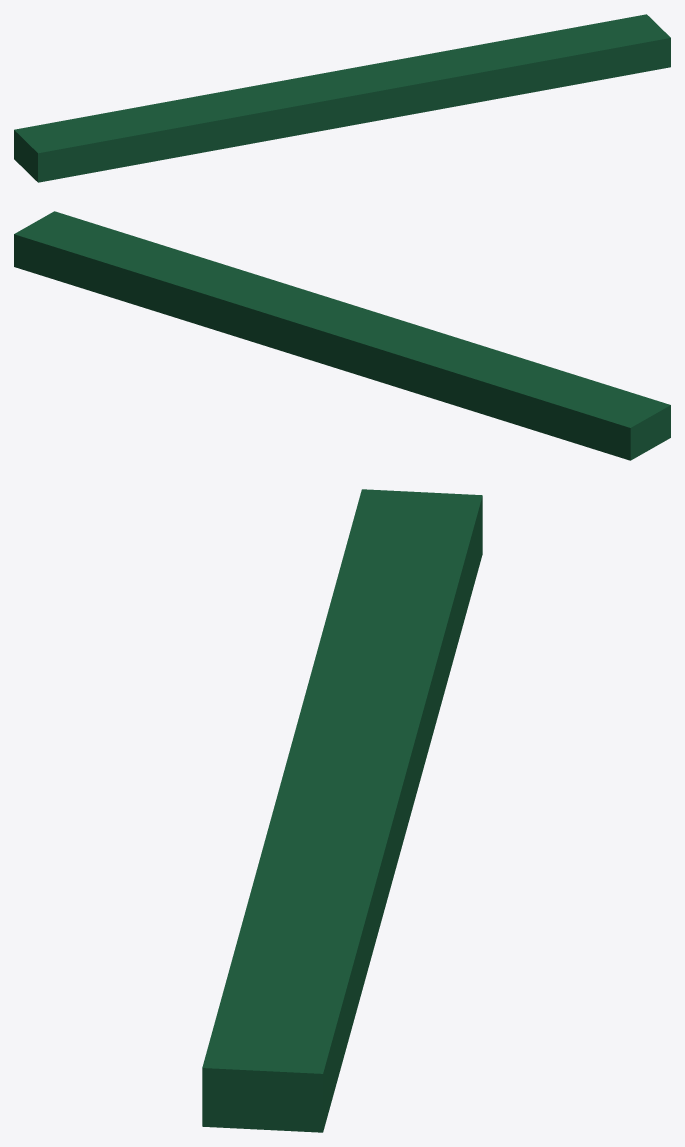
File: footbridge_00185_far.glb
3 views of the same model, one above another, from view 1: azimuth 30°, elevation 25°; view 2: azimuth 150°, elevation 25°; view 3: azimuth 270°, elevation 25° (orthographic). The views are drawn at different scales.
Parts seen in each view (by area): view 1: chunk_0_0; view 2: chunk_0_0; view 3: chunk_0_0.
Boxes of the visible parts, left/top/right/bottom form: chunk_0_0: left=14, top=14, right=670, bottom=182; chunk_0_0: left=14, top=211, right=670, bottom=460; chunk_0_0: left=202, top=489, right=482, bottom=1132.
Size of the model in its own units: 34.12 by 1.6 by 6.92.
